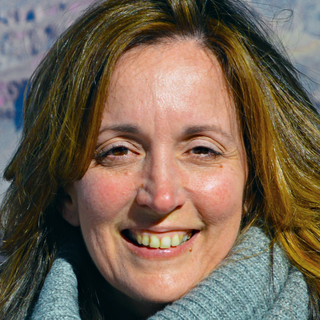eye: (94, 141, 145, 164), (178, 141, 224, 164)
